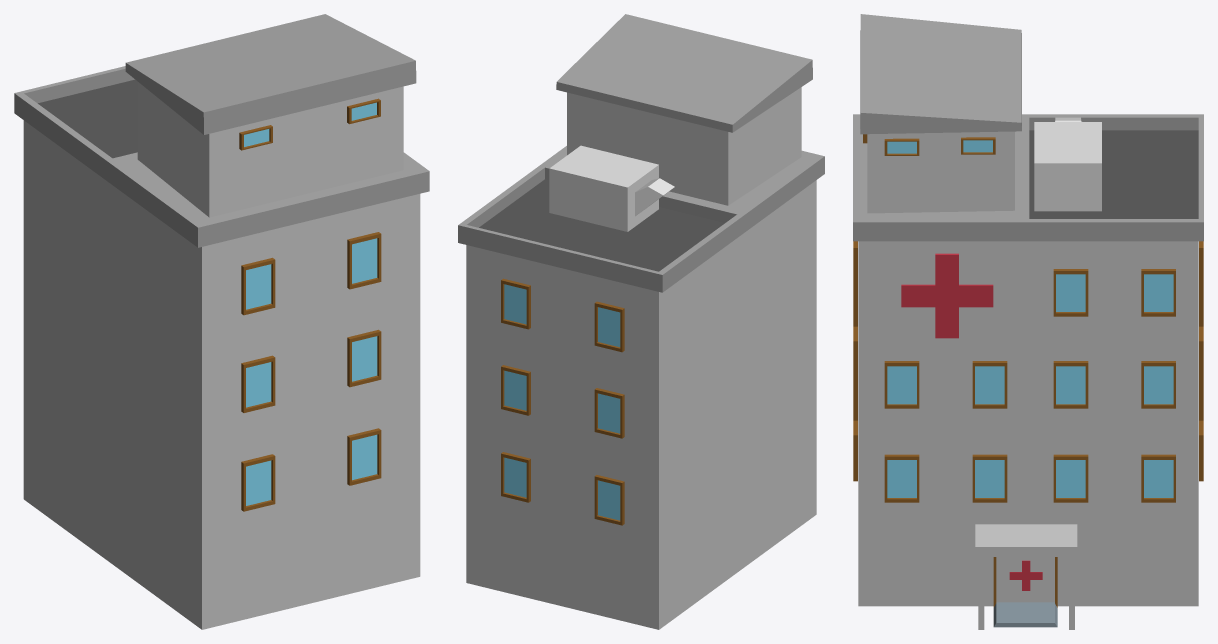
Rendered from hospitalbuilding.fbx.
3 renders of one model, left to right at view 1: azimuth 30°, elevation 25°; view 2: azimuth 150°, elevation 25°; view 3: azimuth 270°, elevation 25°, orthographic. The views are drawn at different scales.
Visible parts, largest first — view 1: Cube, Cube.002; view 2: Cube, Cube.002, Cube.003; view 3: Cube, Cube.002, Cube.003, Cube.004, Cube.001.
Part boxes in pixels (bbox=[...]): Cube: bbox=[14, 14, 429, 629]; Cube.002: bbox=[239, 98, 381, 511]; Cube: bbox=[458, 14, 824, 629]; Cube.002: bbox=[501, 278, 624, 525]; Cube.003: bbox=[549, 145, 674, 231]; Cube: bbox=[853, 14, 1203, 606]; Cube.002: bbox=[853, 134, 1203, 627]; Cube.003: bbox=[1034, 117, 1101, 211]; Cube.004: bbox=[975, 524, 1077, 629]; Cube.001: bbox=[901, 253, 1042, 590].
Bounding box in the file's own units: 885 × 1598 × 1029.
